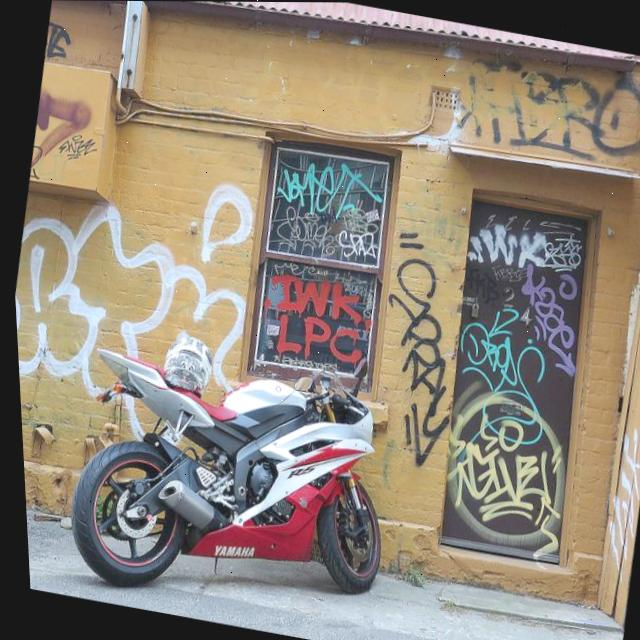motorcycle: (42, 316, 422, 624)
